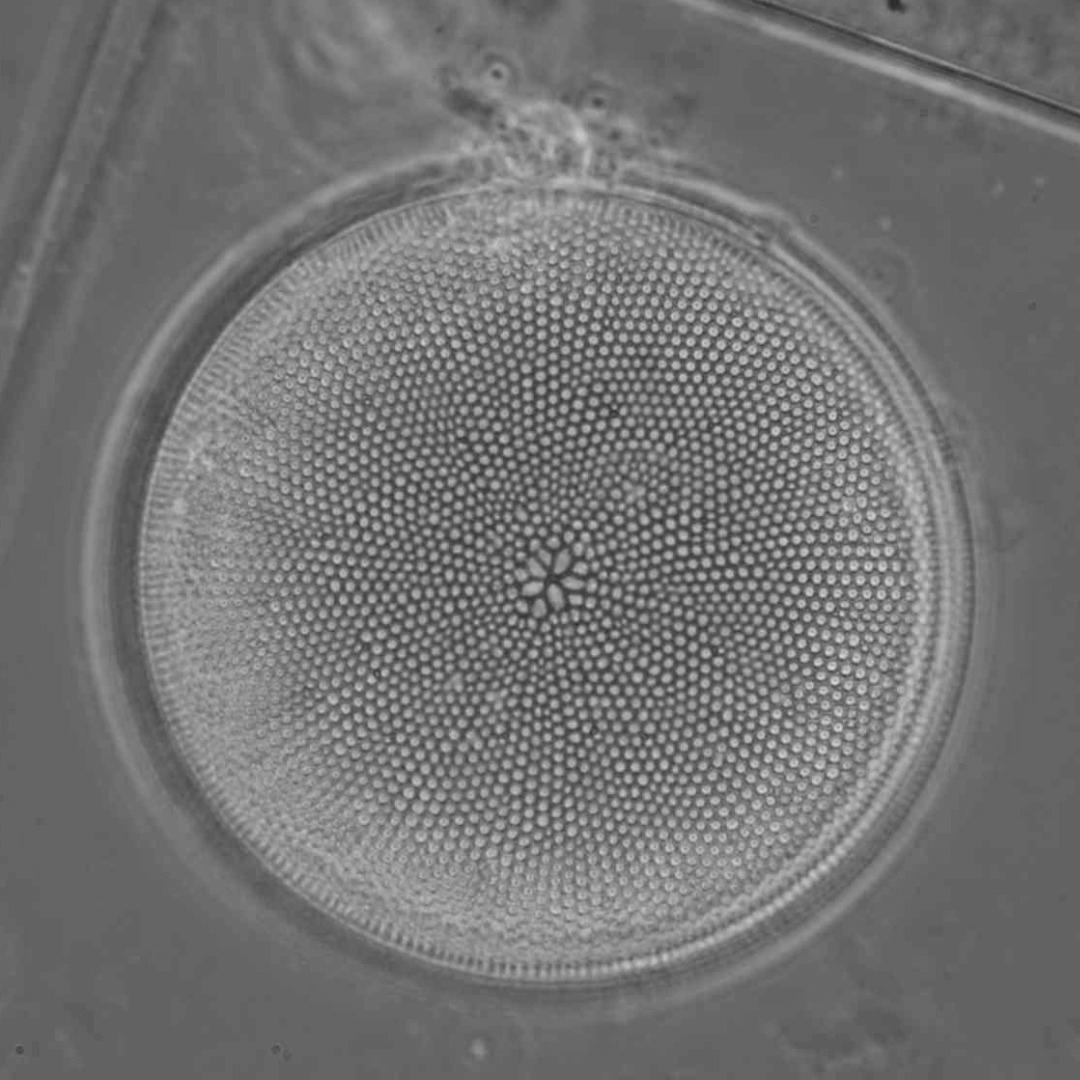coscinodiscus_oculus_iridis: (106, 166, 975, 997)
